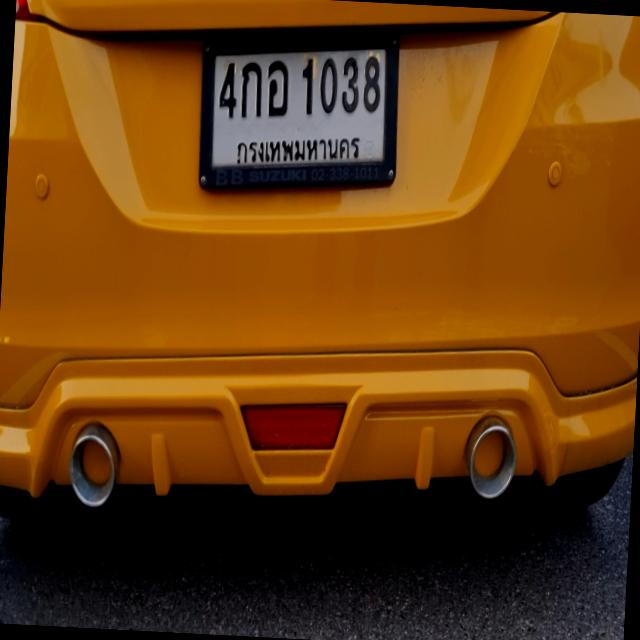license_plate: (192, 13, 407, 198)
